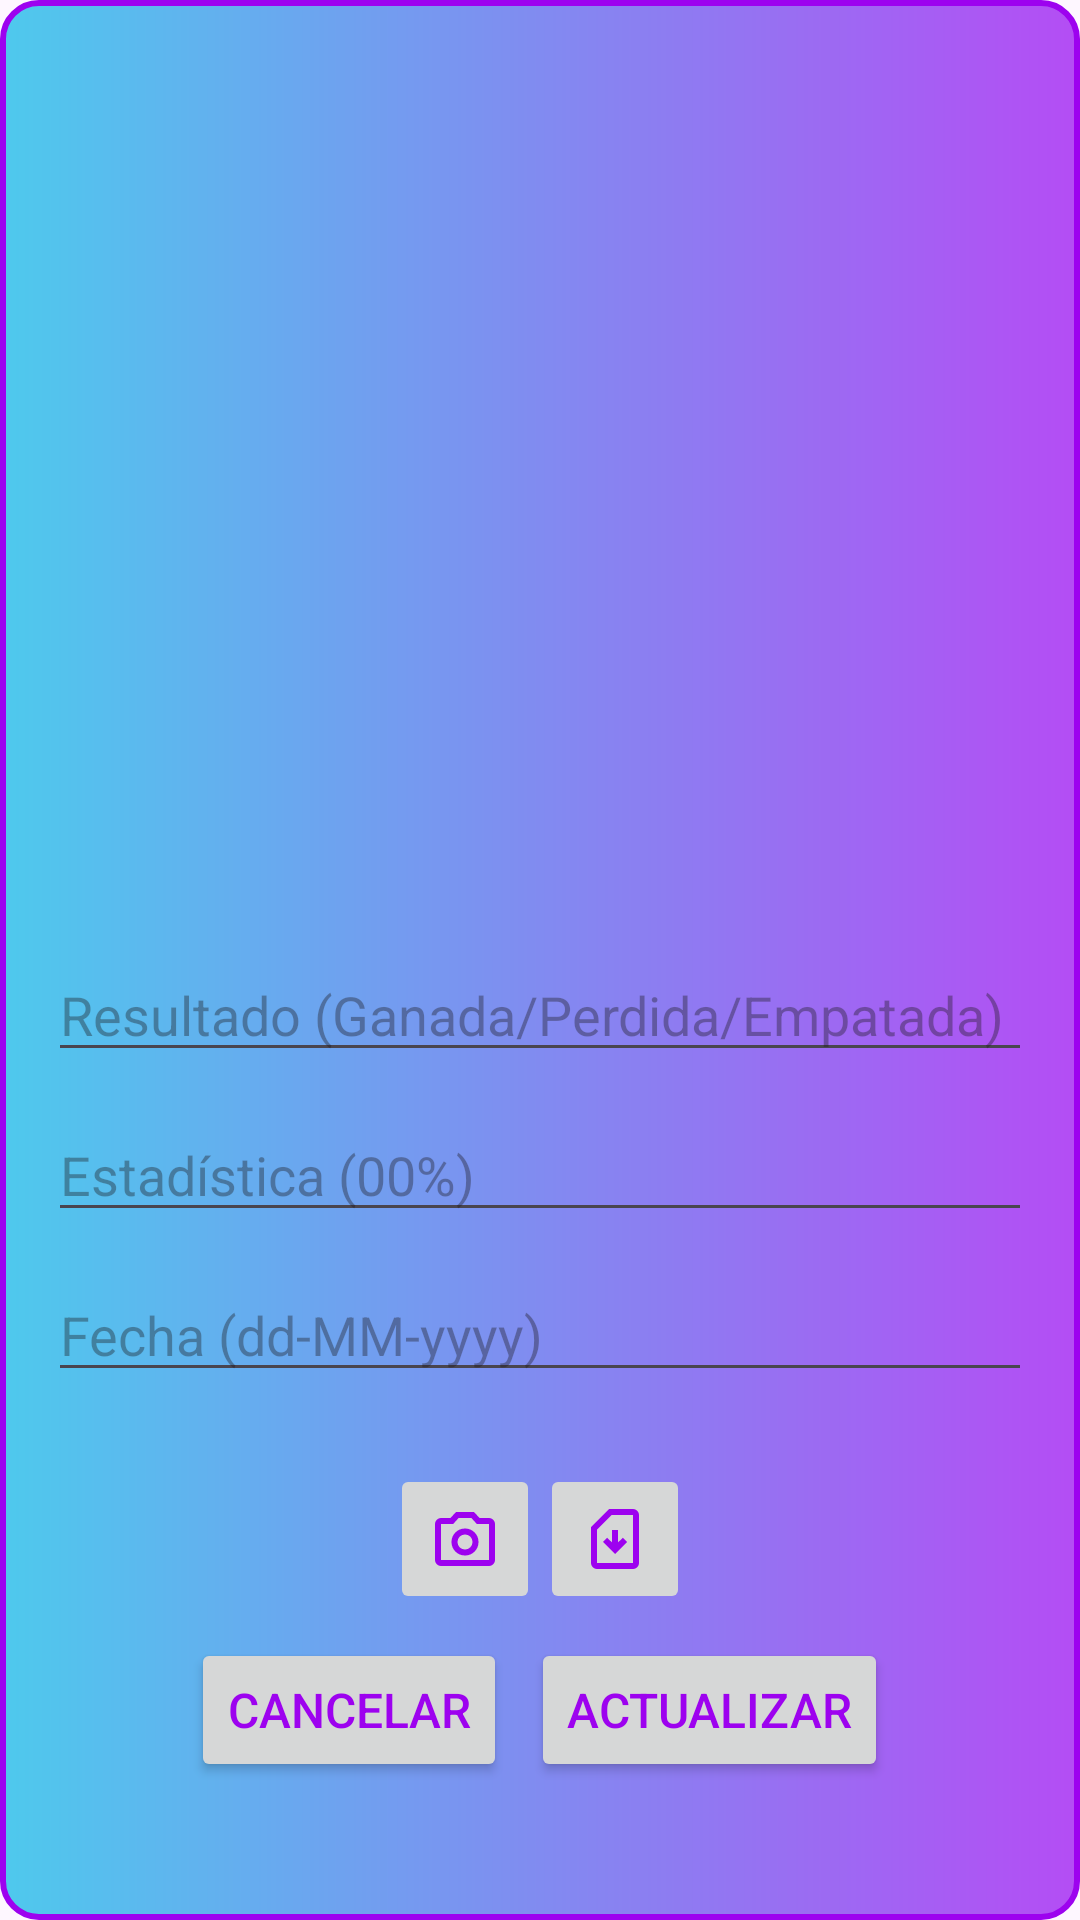

Icons on this 1080*1920 Android screen, each with its box as (x1, y1, x2, y2):
camera: (402, 1482, 528, 1596)
